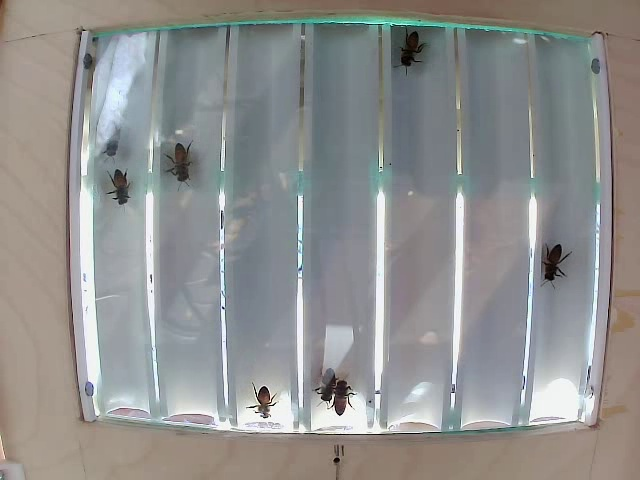bee: (528, 223, 563, 282), (162, 140, 205, 183), (393, 25, 429, 75), (92, 114, 136, 152), (255, 378, 291, 420), (328, 374, 358, 417), (111, 172, 145, 208), (311, 366, 338, 400)
